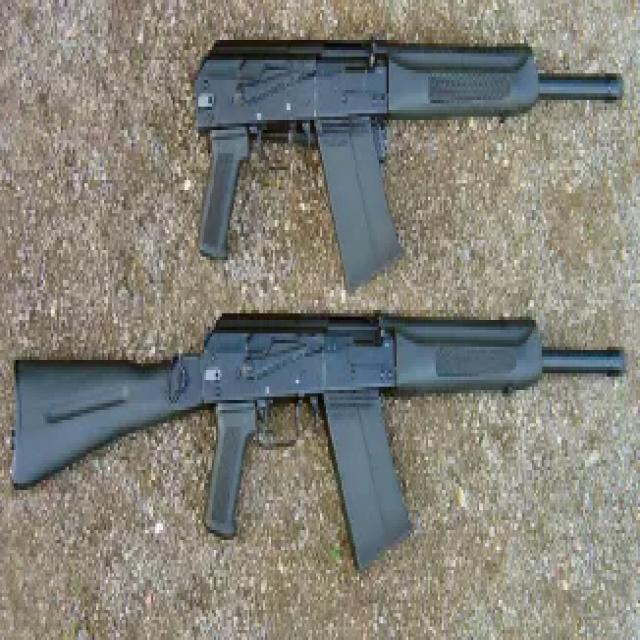weapon: (12, 311, 627, 572), (192, 38, 624, 293)
